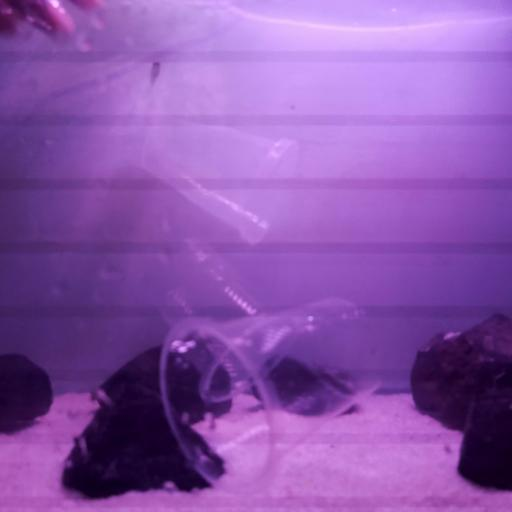plastic_cup: (157, 295, 386, 501), (129, 108, 302, 247), (150, 249, 302, 404)
